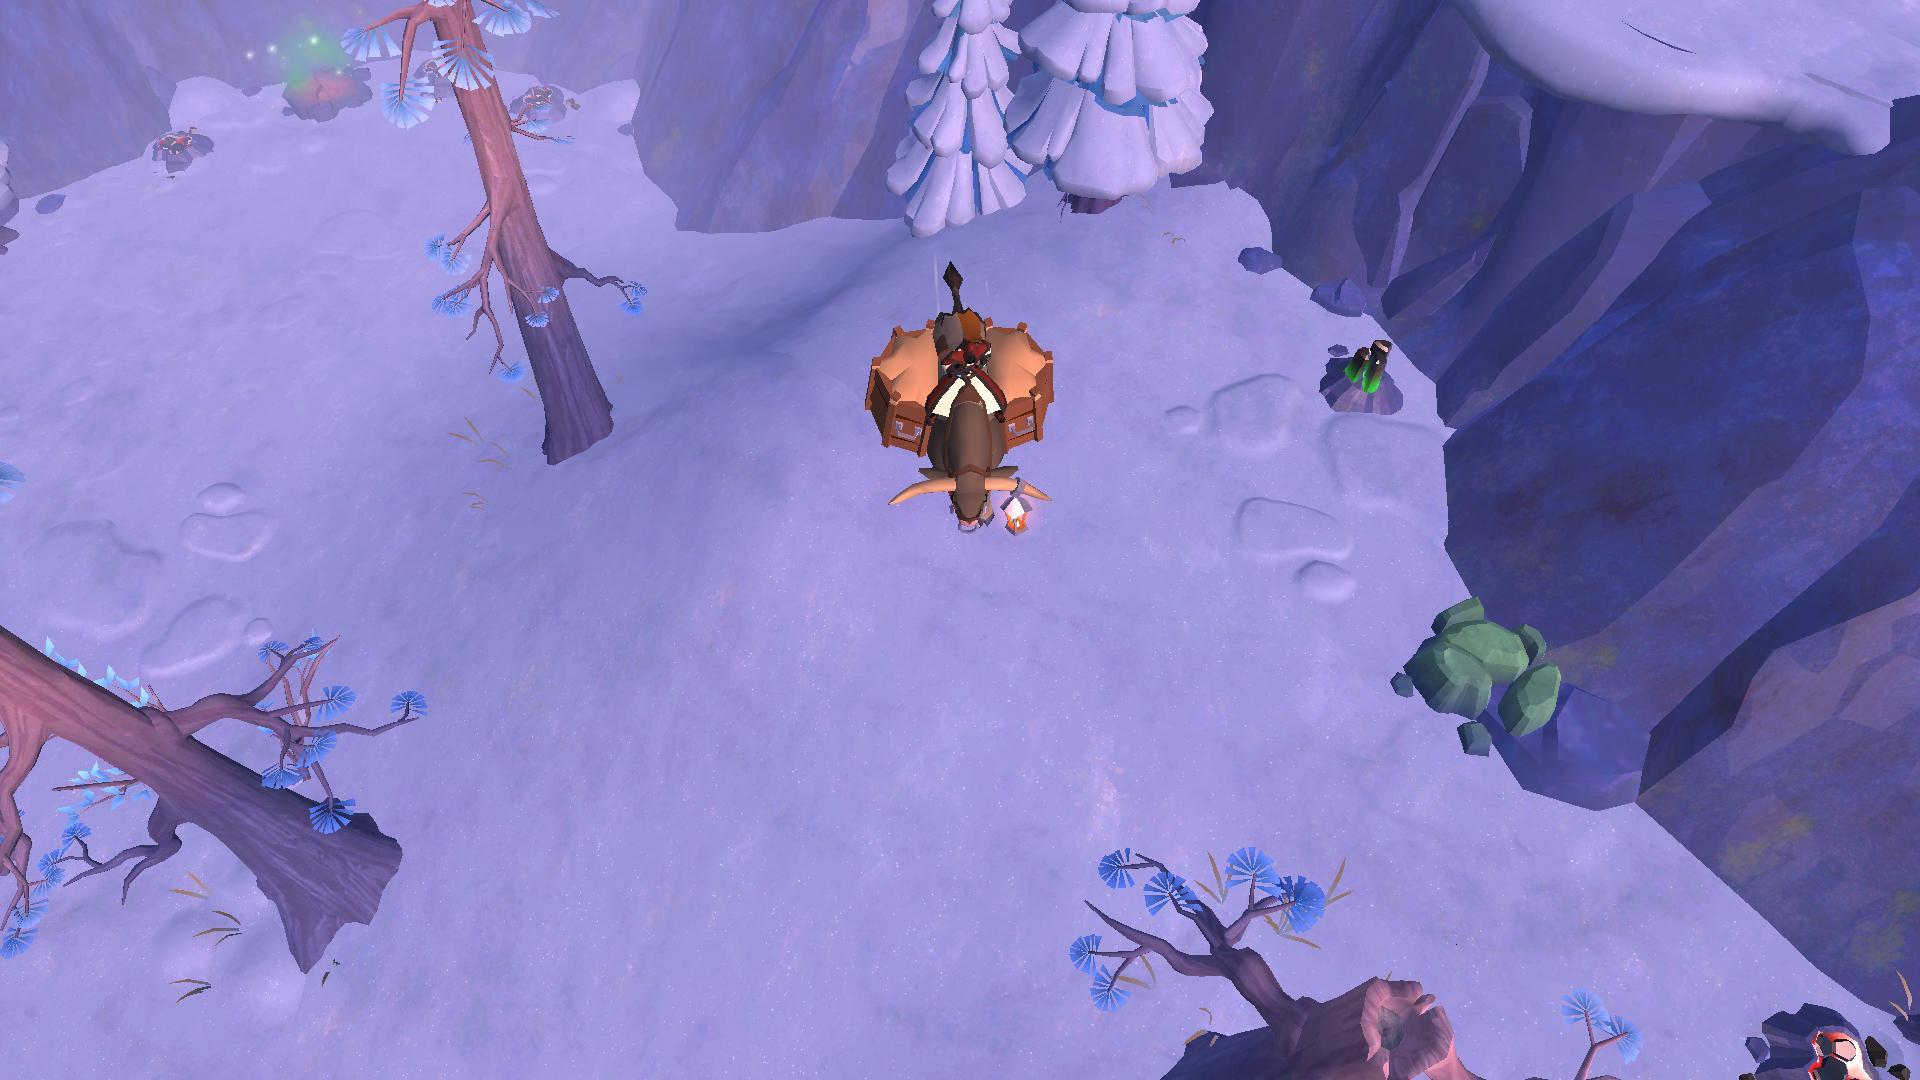ore_t3: (1342, 331, 1394, 402)
rock_t3: (1389, 585, 1560, 750)
